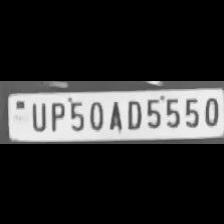0: (85, 97, 105, 130), (200, 94, 220, 125)
5: (142, 94, 162, 128), (180, 93, 200, 127), (65, 97, 85, 130), (163, 94, 181, 128)
A: (106, 97, 122, 130)
D: (123, 95, 143, 129)
P: (46, 97, 66, 131)
U: (27, 98, 47, 130)
